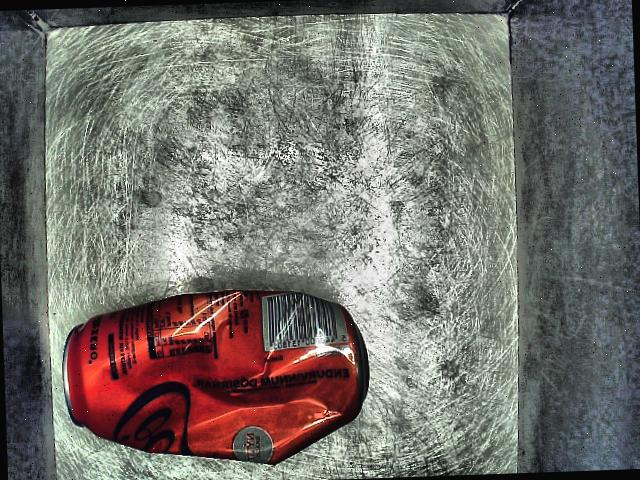Bottles: (35, 242, 381, 480)
